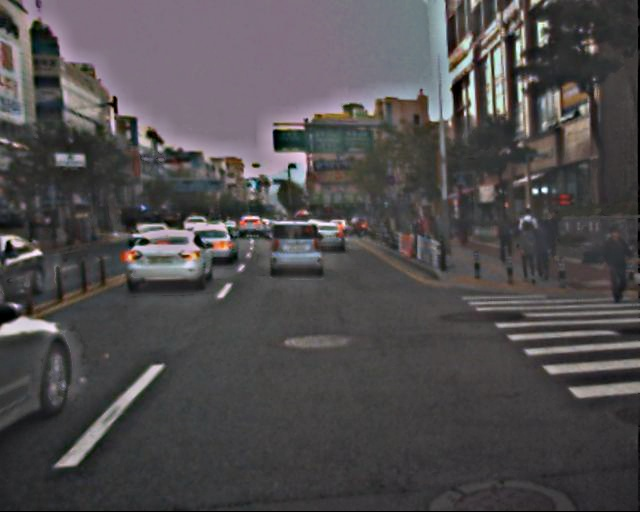person: (601, 228, 631, 301), (515, 221, 540, 282), (530, 222, 554, 280), (517, 208, 540, 265), (536, 207, 559, 263), (406, 215, 442, 244), (496, 214, 516, 262), (456, 211, 471, 248)
